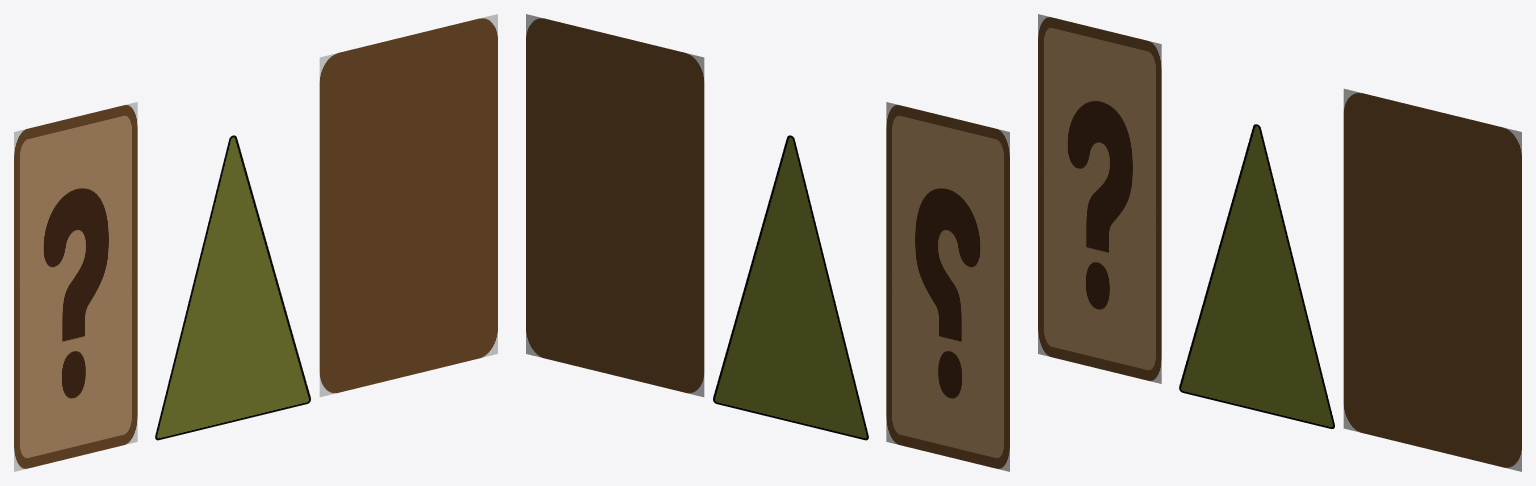
File: Mountain.fbx
3 views of the same model, side by side, from view 1: azimuth 30°, elevation 25°; view 2: azimuth 150°, elevation 25°; view 3: azimuth 330°, elevation 25° (orthographic).
Visible parts, largest first — view 1: Mun3, Mun1, Mun2; view 2: Mun3, Mun1, Mun2; view 3: Mun3, Mun1, Mun2.
Boxes of the visible parts, bbox=[...] form: Mun3: bbox=[319, 14, 497, 397]; Mun1: bbox=[14, 102, 137, 471]; Mun2: bbox=[155, 135, 310, 440]; Mun3: bbox=[526, 14, 704, 397]; Mun1: bbox=[886, 102, 1009, 471]; Mun2: bbox=[713, 135, 868, 440]; Mun3: bbox=[1343, 88, 1521, 471]; Mun1: bbox=[1038, 14, 1161, 383]; Mun2: bbox=[1179, 124, 1334, 429].
Size of the model in its own units: 12.06 by 8.19 by 4.96e-16.
